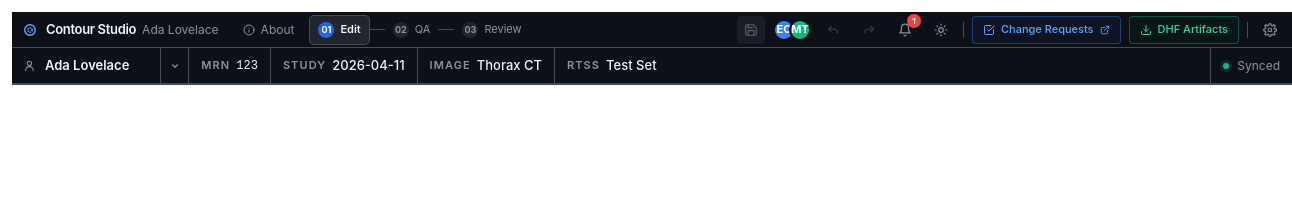
Scenario: Toolbar contour operations › opens the activity inbox from the global title bar
The width and height of the screenshot is (1292, 205).
Click the button named "Inbox": click(905, 30) [891,16,919,44]
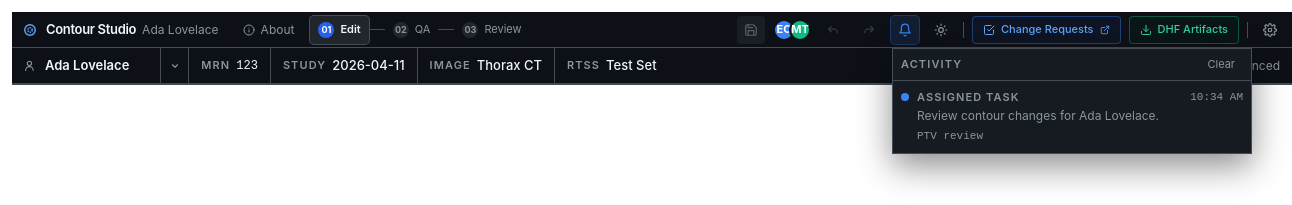
Result: the heading "Activity" is shown at [901,56,962,73]
Result: the text "Assigned task" is shown at [917,90,1020,104]
Result: the text "Review contour changes for Ada Lovelace." is shown at [917,108,1182,124]
